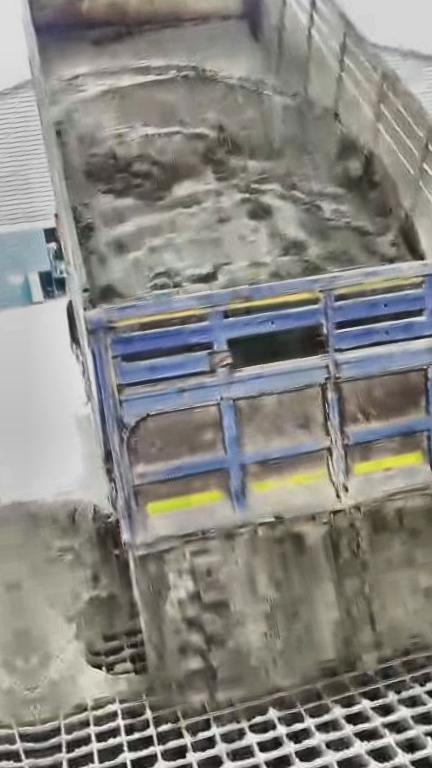sand: (0, 472, 432, 716), (55, 64, 421, 300)
